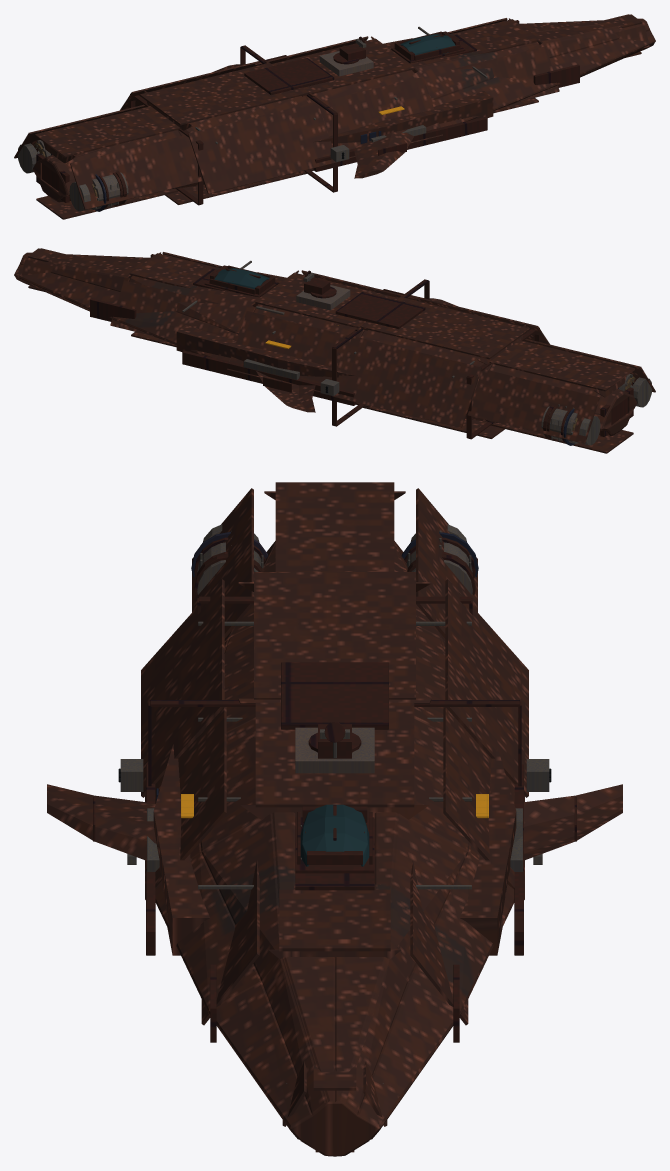
Rendered from ashline_rig_production_v1_lod0.glb.
3 views of the same model, one above another, from view 1: azimuth 30°, elevation 25°; view 2: azimuth 150°, elevation 25°; view 3: azimuth 270°, elevation 25° (orthographic). The views are drawn at different scales.
Parts seen in each view (by area): view 1: LOD0_Hull, LOD0_Armor, LOD0_Mechanical, LOD0_Canopy; view 2: LOD0_Hull, LOD0_Armor, LOD0_Mechanical, LOD0_Canopy; view 3: LOD0_Hull, LOD0_Armor, LOD0_Mechanical, LOD0_Canopy.
Part boxes in pixels (x1=…): LOD0_Hull: x1=14, y1=14, x2=655, y2=219; LOD0_Armor: x1=33, y1=20, x2=579, y2=209; LOD0_Mechanical: x1=17, y1=26, x2=487, y2=211; LOD0_Canopy: x1=400, y1=34, x2=455, y2=55; LOD0_Hull: x1=14, y1=248, x2=655, y2=453; LOD0_Armor: x1=90, y1=254, x2=636, y2=443; LOD0_Mechanical: x1=182, y1=260, x2=652, y2=445; LOD0_Canopy: x1=214, y1=268, x2=269, y2=289; LOD0_Hull: x1=47, y1=482, x2=622, y2=1156; LOD0_Armor: x1=93, y1=537, x2=576, y2=1042; LOD0_Mechanical: x1=120, y1=524, x2=549, y2=1083; LOD0_Canopy: x1=300, y1=804, x2=369, y2=866.
Size of what is drawn, in the model's own units: 14.56 by 2.47 by 6.1.
9 materials, 9 textured.
